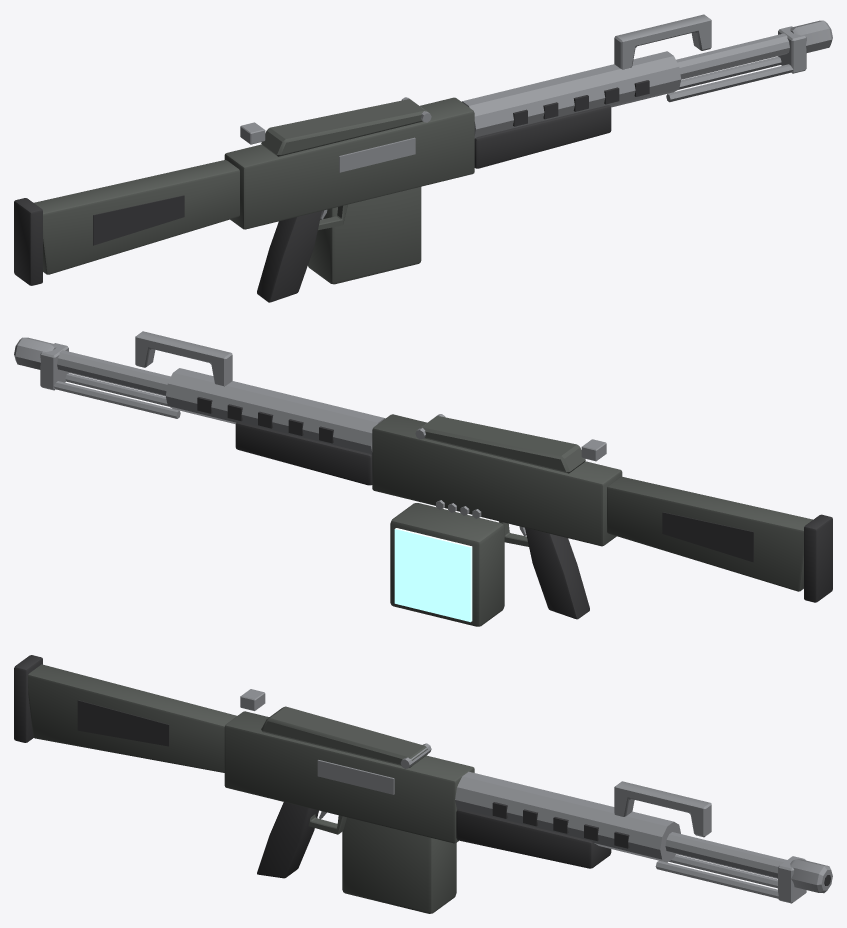
Rendered from w_lmg.glb.
The picture shows the model from 3 angles, top to bottom: view 1: azimuth 30°, elevation 25°; view 2: azimuth 150°, elevation 25°; view 3: azimuth 330°, elevation 25°; orthographic projection.
Visible parts, largest first — view 1: W_lmg; view 2: W_lmg; view 3: W_lmg.
Part boxes in pixels (x1,y1,x2,y2): W_lmg: (14,14,832,302); W_lmg: (14,331,832,626); W_lmg: (14,655,832,913).
Size of the model in its own units: 1.06 by 0.23 by 0.0987.
